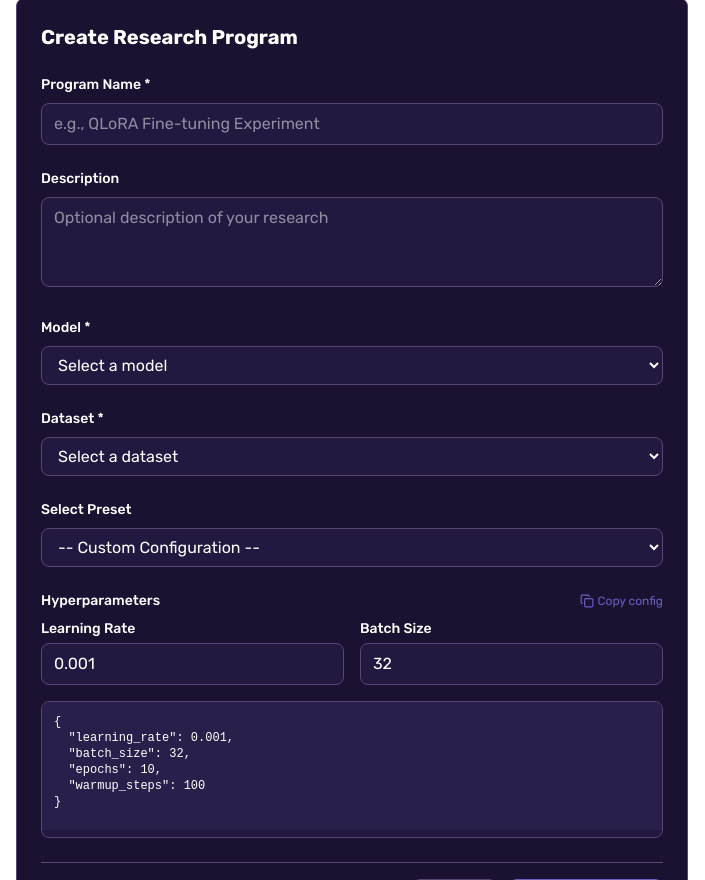
Test case: ResearchProgramEditor › Form Validation › should clear error messages when corrected
The image size is (705, 880).
Type "x" into the field labelled "Program Name *" at (352, 124), box left=41, top=103, right=663, bottom=145
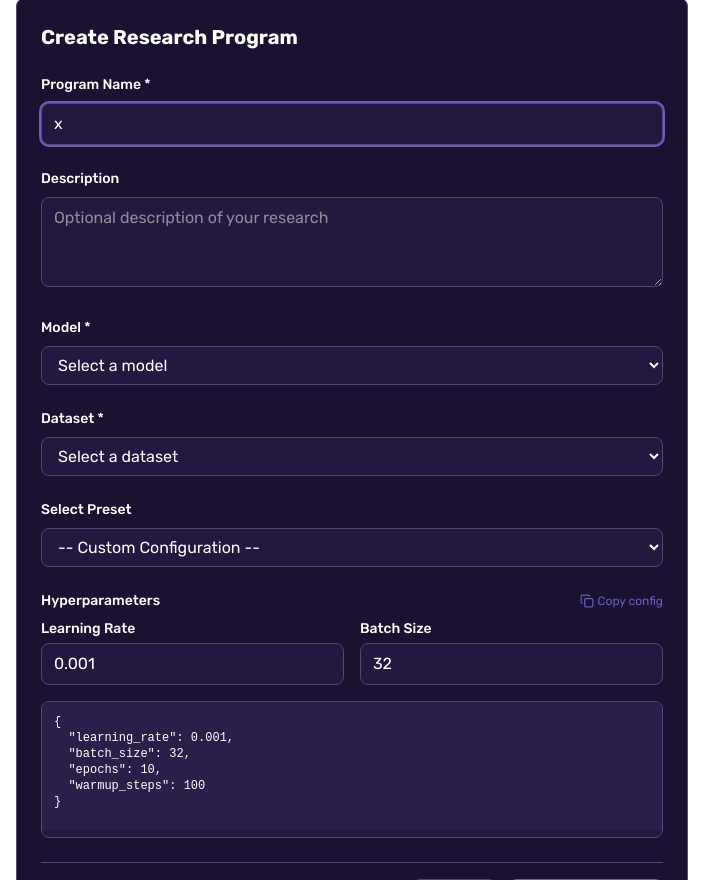
Clear the field labelled "Program Name *" at (352, 124), box left=41, top=103, right=663, bottom=145
(page scrolled)
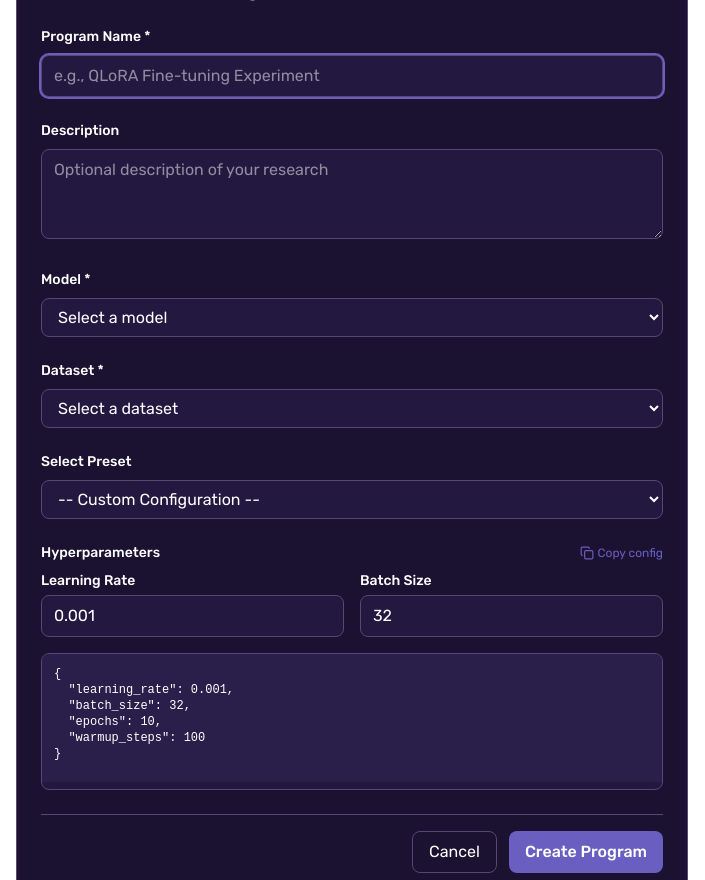
Click the button "Create Program" at (586, 852), box left=509, top=831, right=663, bottom=873
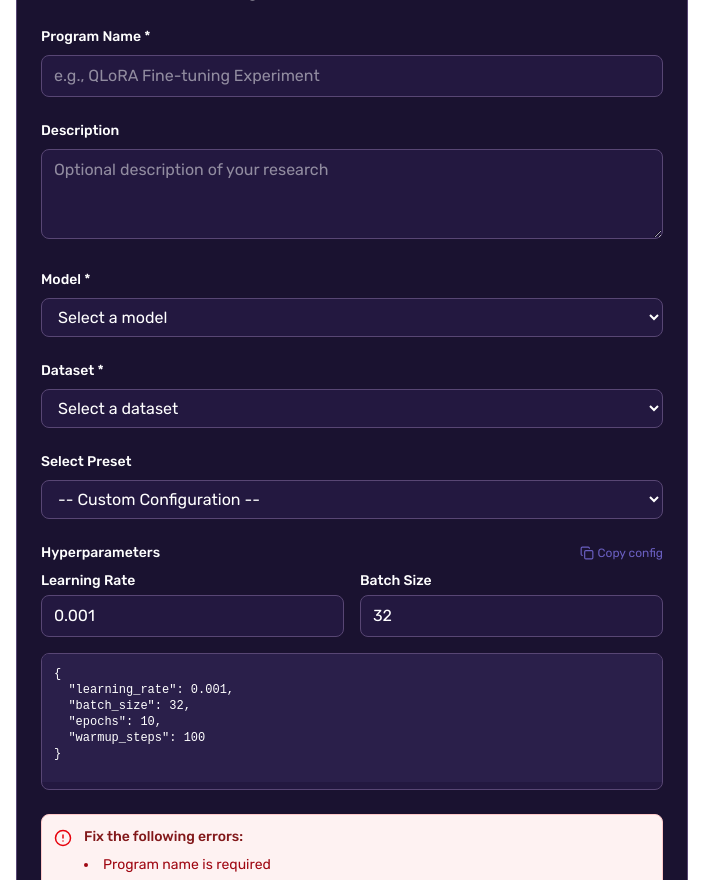
Check: the list item "Program name is required" is shown, box left=84, top=855, right=271, bottom=875
Type "Valid Name" into the field labelled "Program Name *" at (352, 76), box left=41, top=55, right=663, bottom=97
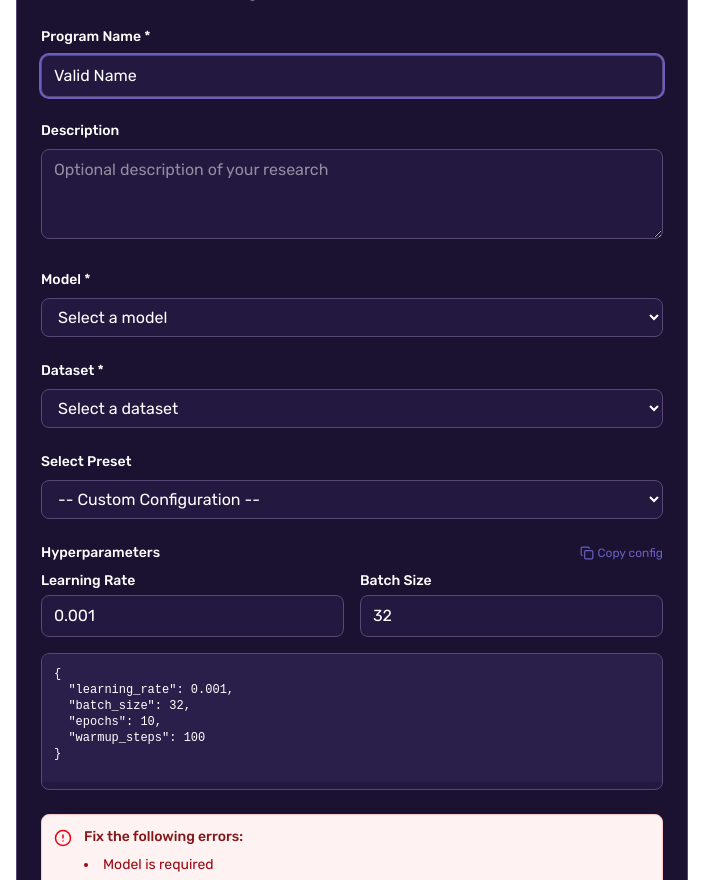
Check: the list item "Program name is required" is gone
